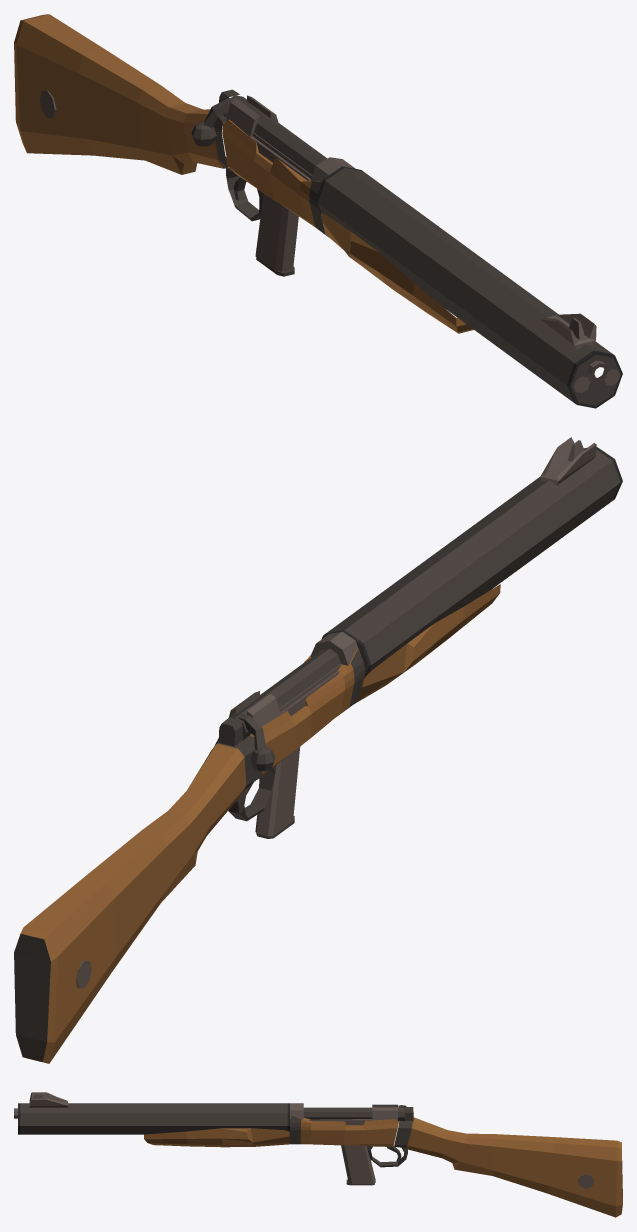
The model's file is DeLisleCarbine_Gun.glb.
3 views of the same model, one above another, from view 1: azimuth 30°, elevation 25°; view 2: azimuth 150°, elevation 25°; view 3: azimuth 270°, elevation 25° (orthographic). The views are drawn at different scales.
Visible parts, largest first — view 1: DeLisleGun_LowPoly; view 2: DeLisleGun_LowPoly; view 3: DeLisleGun_LowPoly.
Boxes of the visible parts, box(x1,y1,x2,y2) form: DeLisleGun_LowPoly: box(14, 14, 622, 408); DeLisleGun_LowPoly: box(14, 437, 622, 1063); DeLisleGun_LowPoly: box(14, 1092, 622, 1217).
Bounding box in the file's own units: 0.0734 × 0.218 × 1.
Materials: 1 (1 with a texture image).
